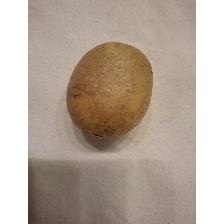Kartoffel: (64, 40, 156, 142)
